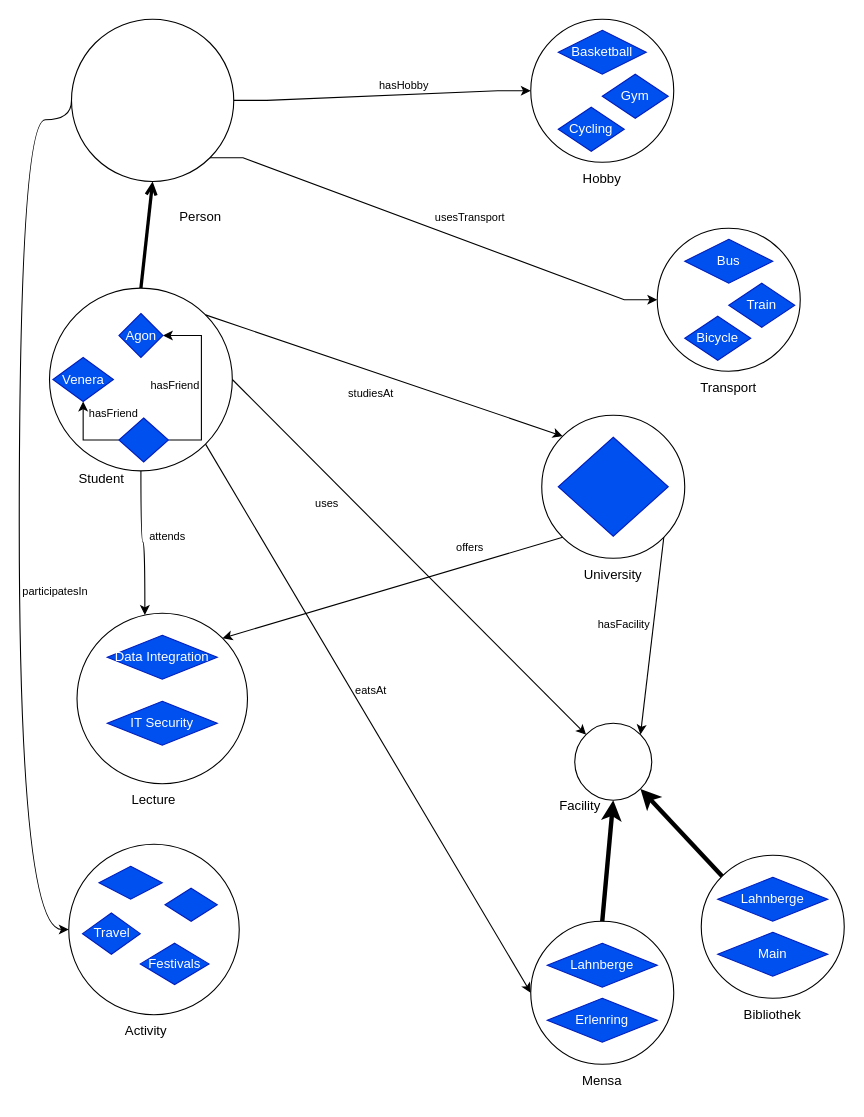
Some shapes in this 864 by 1117 pixel diagram are drawn without their labels. The shapes that lost their labels are listed below. From the top down, each one's centre as x and y in pixels, then its label:
(143,439): Olti
(612,486): Philipps University Marburg
(130,882): Party
(190,904): Bar
